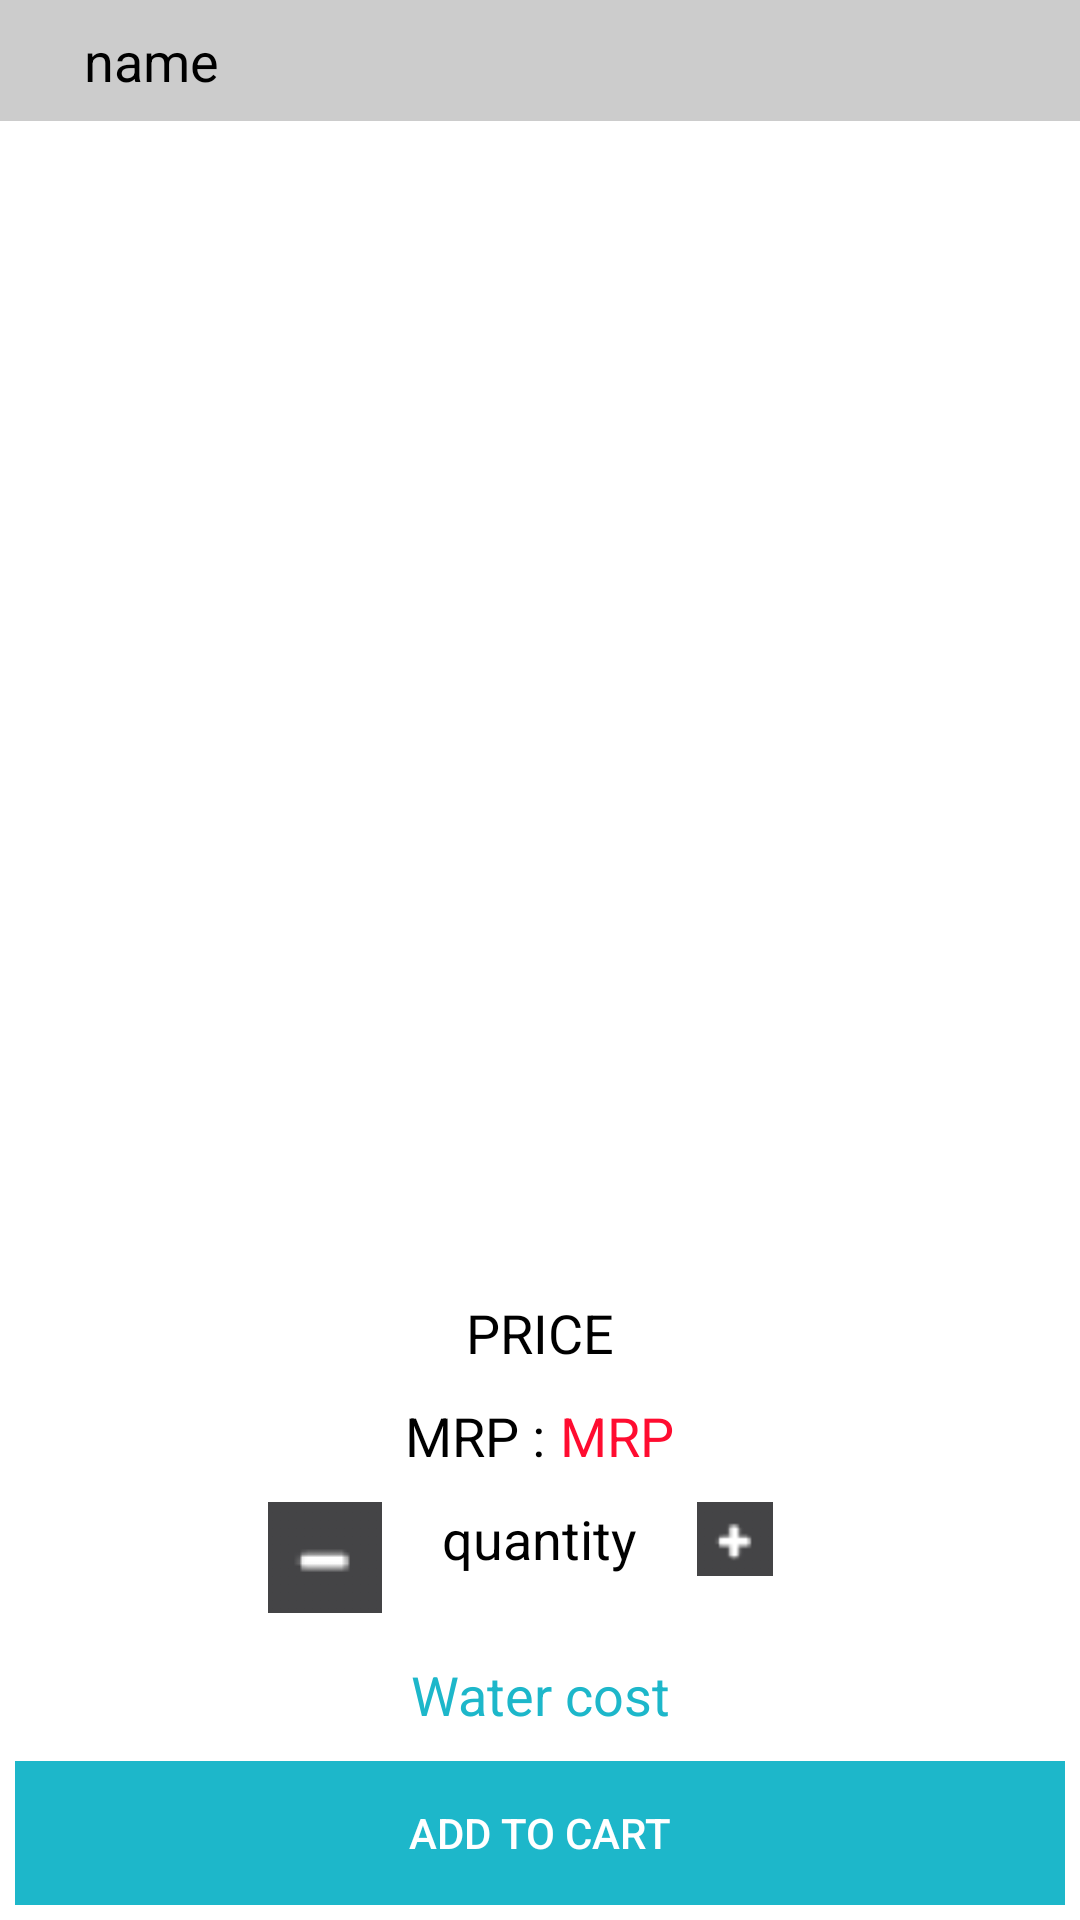

Screen size 1080×1920. Icon name, then its center in pixels as (x=x, y=y):
minus: (x=325, y=1557)
plus: (x=735, y=1539)
